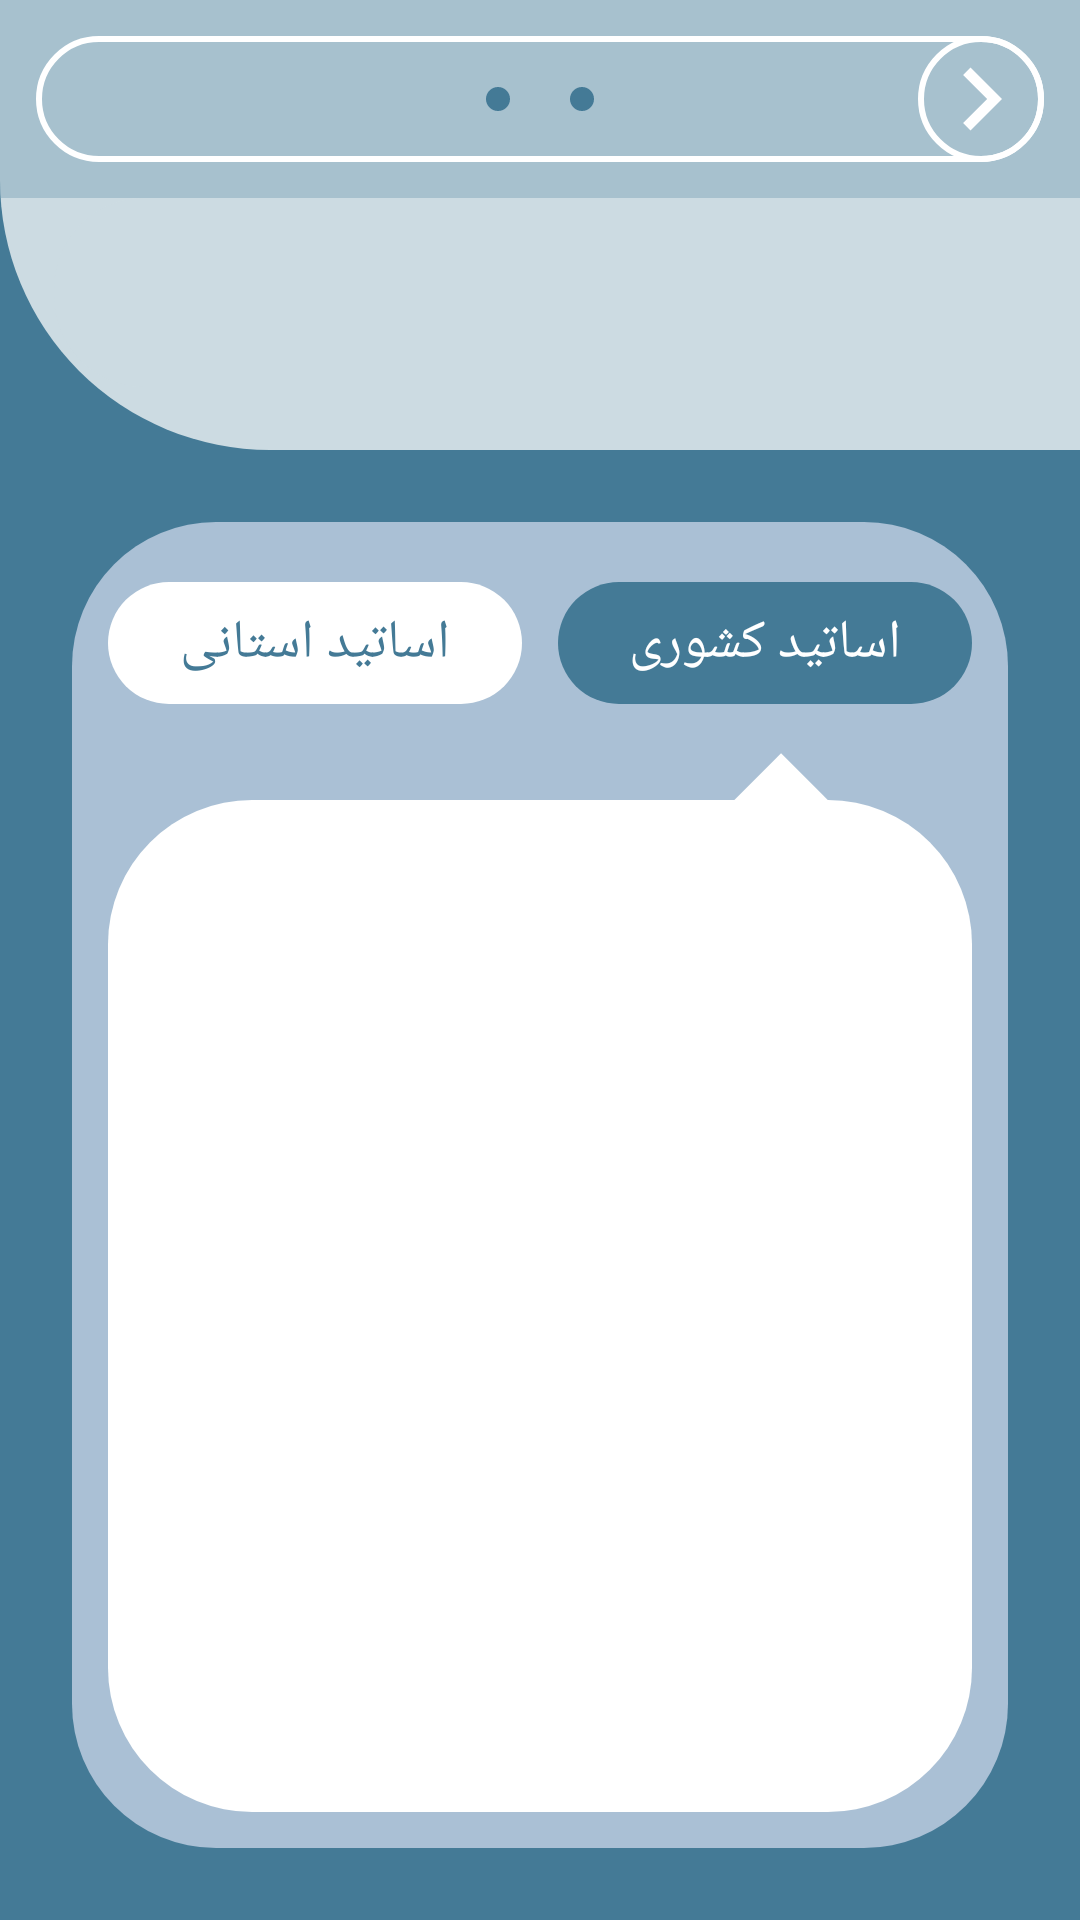

Where icons sit on this 1080×1920 app screen, as (x1, y1, x2, y2):
arrow drop up: (735, 753, 827, 800)
right: (918, 36, 1044, 162)
